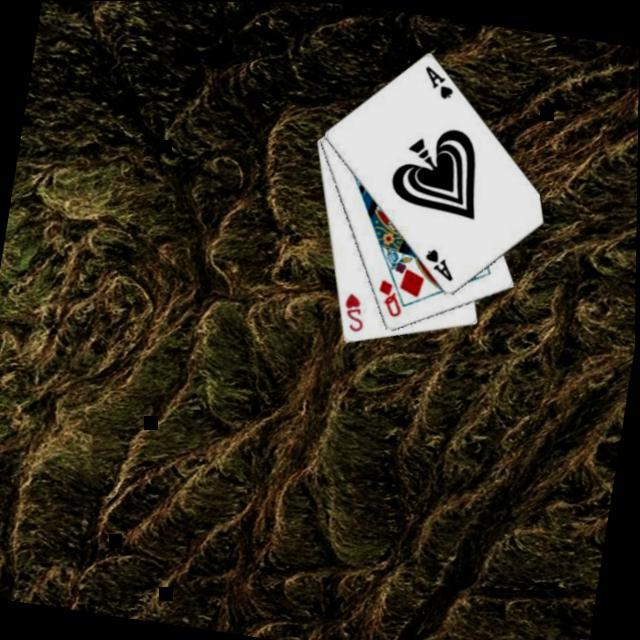2H: (338, 287, 371, 333)
AS: (417, 59, 458, 100), (419, 242, 459, 281)
QD: (372, 274, 409, 319)
